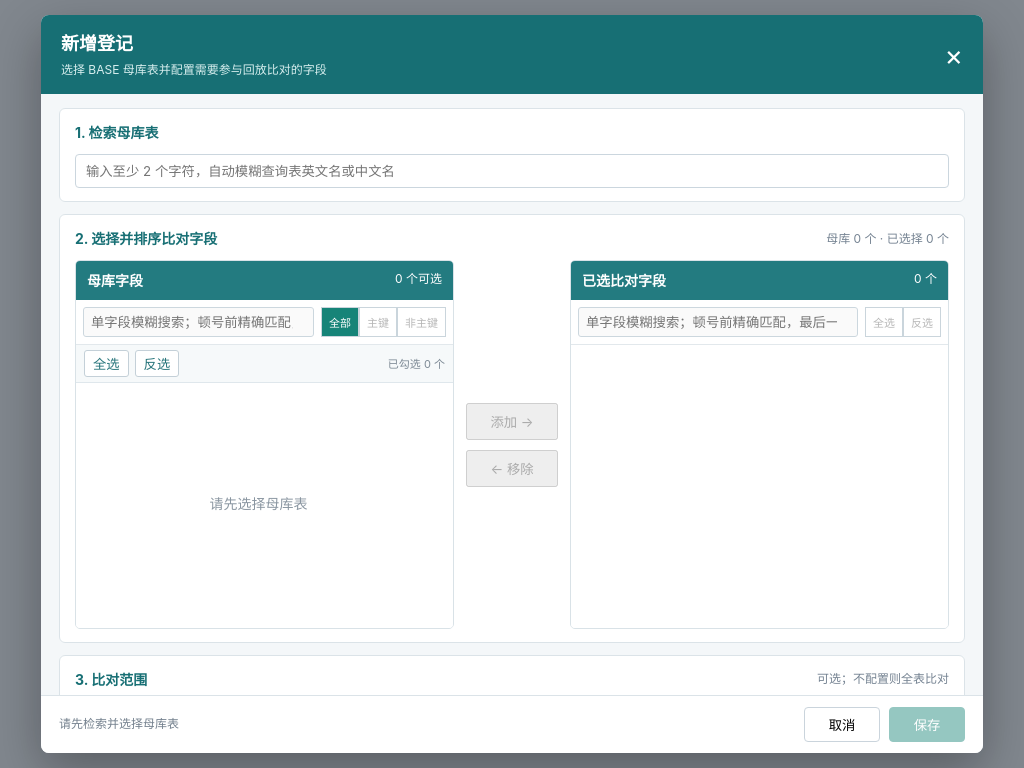
Test: ReplayDatabaseComparisonEditor › switches to edit mode and restores selected fields for an existing table
The image size is (1024, 768).
Type "冻结控制信息" into the search field with test id "table-search-input". click: (512, 171)
box: 75,154 -> 949,188
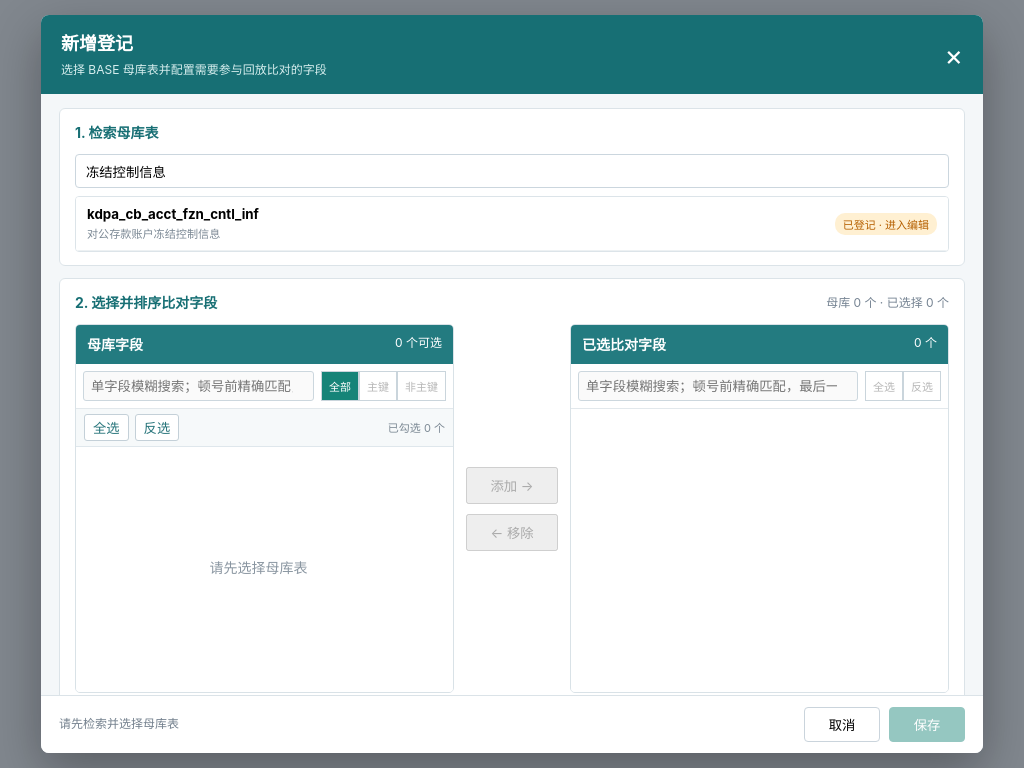
Click the button with test id "table-search-result". click: (173, 214)
box: 76,197 -> 948,251
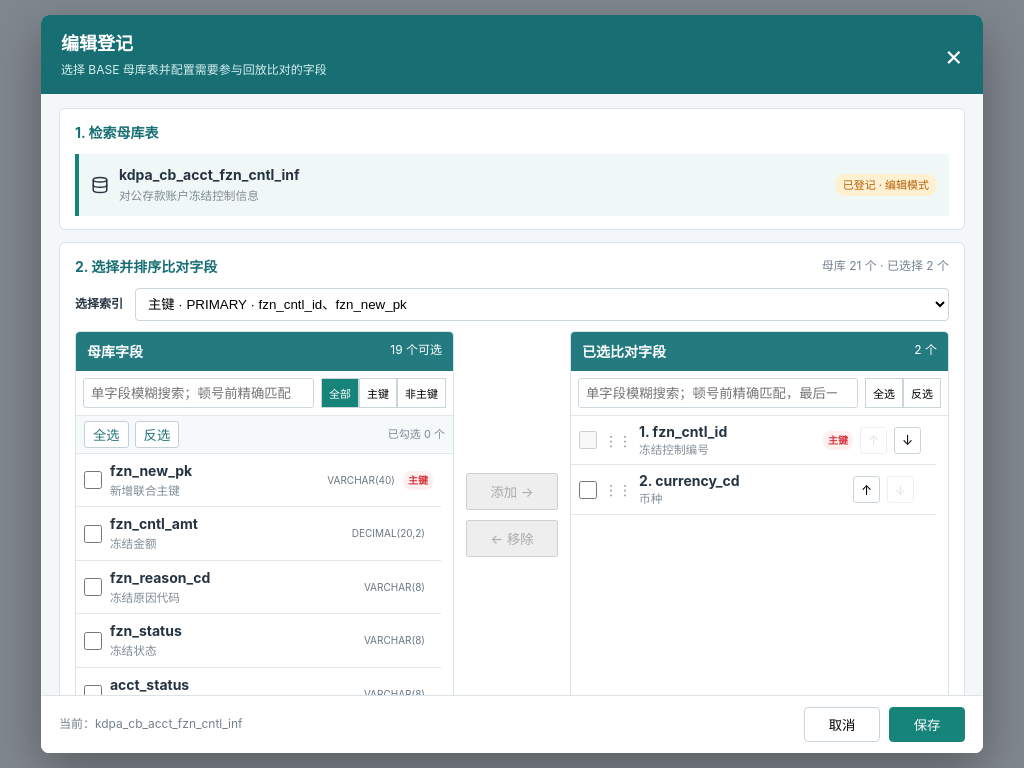
Result: the heading with test id "editor-title" reads "编辑登记" at 61,33 -> 133,54
Result: the element with test id "selected-table" shows "kdpa_cb_acct_fzn_cntl_inf" at 119,166 -> 300,183
Result: the element with test id "selected-fields" shows "fzn_cntl_id" at 639,423 -> 727,440
